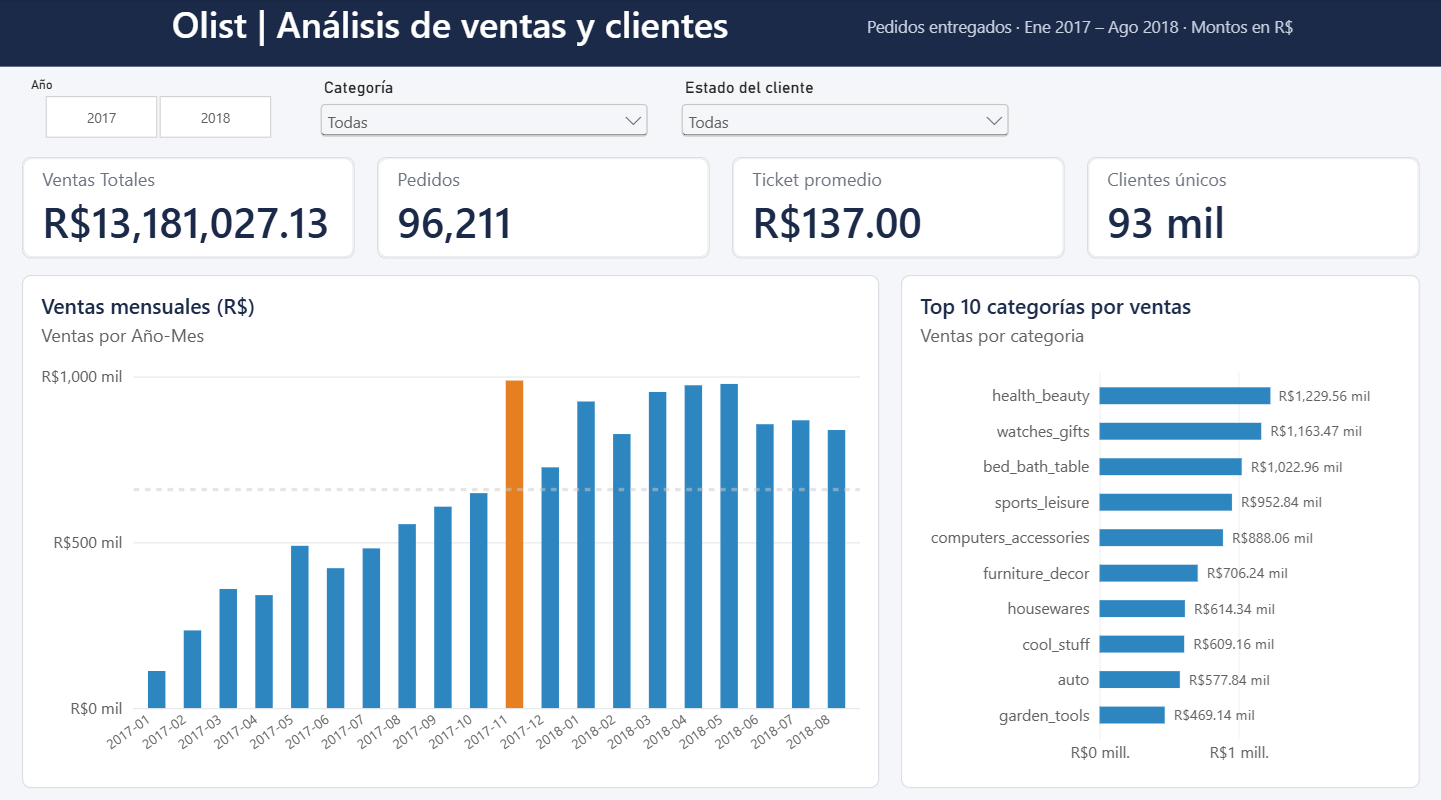

The dashboard page shown, as its layout file describes it:
{"tool":"powerbi","page":{"name":"Resumen de ventas.","canvas":[1280,720],"ordinal":0},"visuals":[{"type":"shape","box":[0,0,1280,60],"z":0},{"type":"textbox","box":[153.3,0,552,60],"z":1000},{"type":"textbox","box":[770,14.4,391.1,30],"z":2000},{"type":"slicer","fields":{"Values":["calendario.Año"]},"box":[20,70,240,55],"z":3000},{"type":"slicer","fields":{"Values":["ventas.estado_cliente"]},"box":[600,70,300,55],"z":4000},{"type":"slicer","fields":{"Values":["ventas.categoria"]},"box":[280,70,300,55],"z":5000},{"type":"cardVisual","fields":{"Data":["ventas.Ventas"]},"box":[20,140,295,90],"z":6000},{"type":"cardVisual","fields":{"Data":["ventas.Pedidos"]},"box":[335,140,295,90],"z":7000},{"type":"cardVisual","fields":{"Data":["ventas.Clientes"]},"box":[965,140,295,90],"z":8000},{"type":"cardVisual","fields":{"Data":["ventas.Ticket promedio"]},"box":[650,140,295,90],"z":9000},{"type":"clusteredBarChart","title":"Top 10 categorías por ventas","fields":{"Category":["ventas.categoria"],"Y":["ventas.Ventas"]},"box":[800,245,460,455],"z":10000},{"type":"clusteredColumnChart","title":"Ventas mensuales (R$)","fields":{"Category":["calendario.Año-Mes"],"Y":["ventas.Ventas"]},"box":[20,245,760,455],"z":11000}]}

Visuals, with their boxes in screenshot pixels (x1, y1, x2, y2), scaled from the page's 1280x720 canvas onto the 1441x800 screenshot:
shape: select_region(0, 0, 1440, 67)
textbox: select_region(173, 0, 794, 67)
textbox: select_region(867, 16, 1307, 49)
slicer - calendario.Año: select_region(23, 78, 293, 139)
slicer - ventas.estado_cliente: select_region(675, 78, 1013, 139)
slicer - ventas.categoria: select_region(315, 78, 653, 139)
cardVisual - ventas.Ventas: select_region(23, 156, 355, 256)
cardVisual - ventas.Pedidos: select_region(377, 156, 709, 256)
cardVisual - ventas.Clientes: select_region(1086, 156, 1418, 256)
cardVisual - ventas.Ticket promedio: select_region(732, 156, 1064, 256)
"Top 10 categorías por ventas" clusteredBarChart: select_region(901, 272, 1418, 778)
"Ventas mensuales (R$)" clusteredColumnChart: select_region(23, 272, 878, 778)
